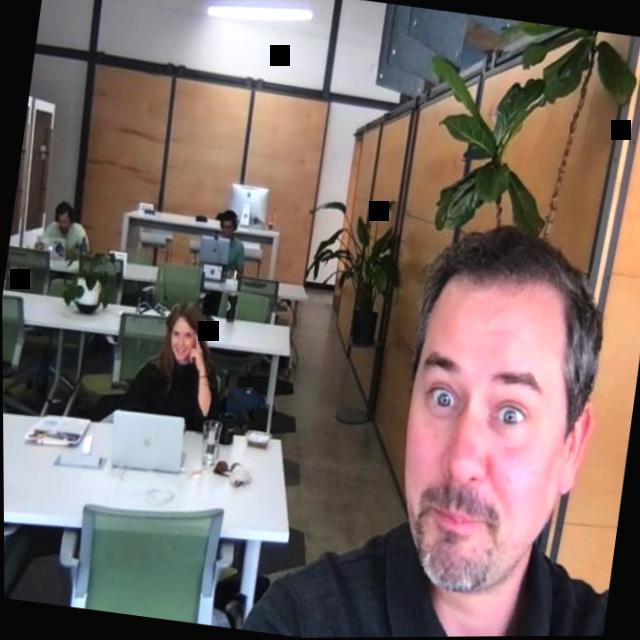NO-Mask: (374, 214, 620, 621), (158, 298, 210, 367), (217, 207, 238, 244), (53, 201, 74, 232)
